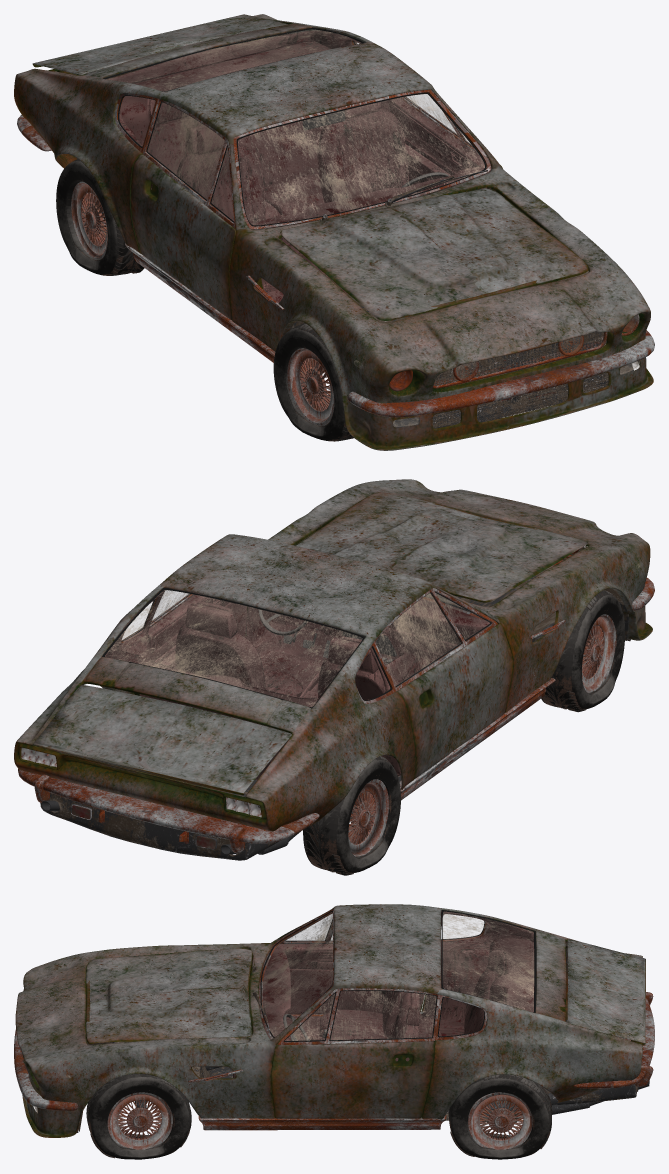
The model's file is Abandoned Aston Martin.fbx.
The picture shows the model from 3 angles, top to bottom: view 1: azimuth 30°, elevation 25°; view 2: azimuth 150°, elevation 25°; view 3: azimuth 270°, elevation 25°; orthographic projection. The views are drawn at different scales.
Parts seen in each view (by area): view 1: Body, glass, SEAT B.001, SEAT R.001, Secondary Details.003, tire rubber, Secondary Details.004, FLR.004, SEAT R.002, Frame, underside, silicon (+3 smaller); view 2: Body, glass, tire rubber, Secondary Details.003, SEAT R.001, SEAT B.001, underside, Console.004, FLR.004, Frame, SEAT R.002, silicon (+2 smaller); view 3: Body, glass, tire rubber, SEAT B.001, SEAT R.002, FLR.004, Secondary Details.003, Frame, Console.004, underside, silicon, SEAT R.001.
Boxes of the visible parts, x1=… form: Body: x1=14, y1=14, x2=653, y2=450; glass: x1=107, y1=29, x2=486, y2=224; SEAT B.001: x1=108, y1=30, x2=389, y2=303; SEAT R.001: x1=317, y1=98, x2=491, y2=202; Secondary Details.003: x1=17, y1=114, x2=654, y2=417; tire rubber: x1=56, y1=159, x2=353, y2=441; Secondary Details.004: x1=320, y1=170, x2=608, y2=428; FLR.004: x1=71, y1=181, x2=334, y2=425; SEAT R.002: x1=151, y1=124, x2=265, y2=224; Frame: x1=115, y1=40, x2=490, y2=229; underside: x1=77, y1=158, x2=633, y2=427; silicon: x1=103, y1=28, x2=487, y2=226; Body: x1=14, y1=479, x2=652, y2=831; glass: x1=105, y1=590, x2=487, y2=706; tire rubber: x1=303, y1=590, x2=625, y2=875; Secondary Details.003: x1=18, y1=547, x2=654, y2=853; SEAT R.001: x1=148, y1=594, x2=303, y2=696; SEAT B.001: x1=105, y1=590, x2=452, y2=780; underside: x1=40, y1=530, x2=630, y2=860; Console.004: x1=252, y1=598, x2=489, y2=698; FLR.004: x1=348, y1=614, x2=616, y2=856; Frame: x1=121, y1=588, x2=497, y2=703; SEAT R.002: x1=317, y1=636, x2=399, y2=700; silicon: x1=102, y1=588, x2=491, y2=708; Body: x1=15, y1=904, x2=645, y2=1137; glass: x1=262, y1=912, x2=534, y2=1040; tire rubber: x1=86, y1=1074, x2=552, y2=1159; SEAT B.001: x1=233, y1=911, x2=534, y2=1077; SEAT R.002: x1=276, y1=944, x2=424, y2=1040; FLR.004: x1=107, y1=1092, x2=532, y2=1149; Secondary Details.003: x1=14, y1=992, x2=654, y2=1130; Frame: x1=259, y1=909, x2=487, y2=1044; Console.004: x1=259, y1=948, x2=346, y2=1044; underside: x1=36, y1=1020, x2=649, y2=1132; silicon: x1=260, y1=910, x2=536, y2=1041; SEAT R.001: x1=389, y1=992, x2=420, y2=1061.
Size of the model in its own units: 228 by 144 by 518.
